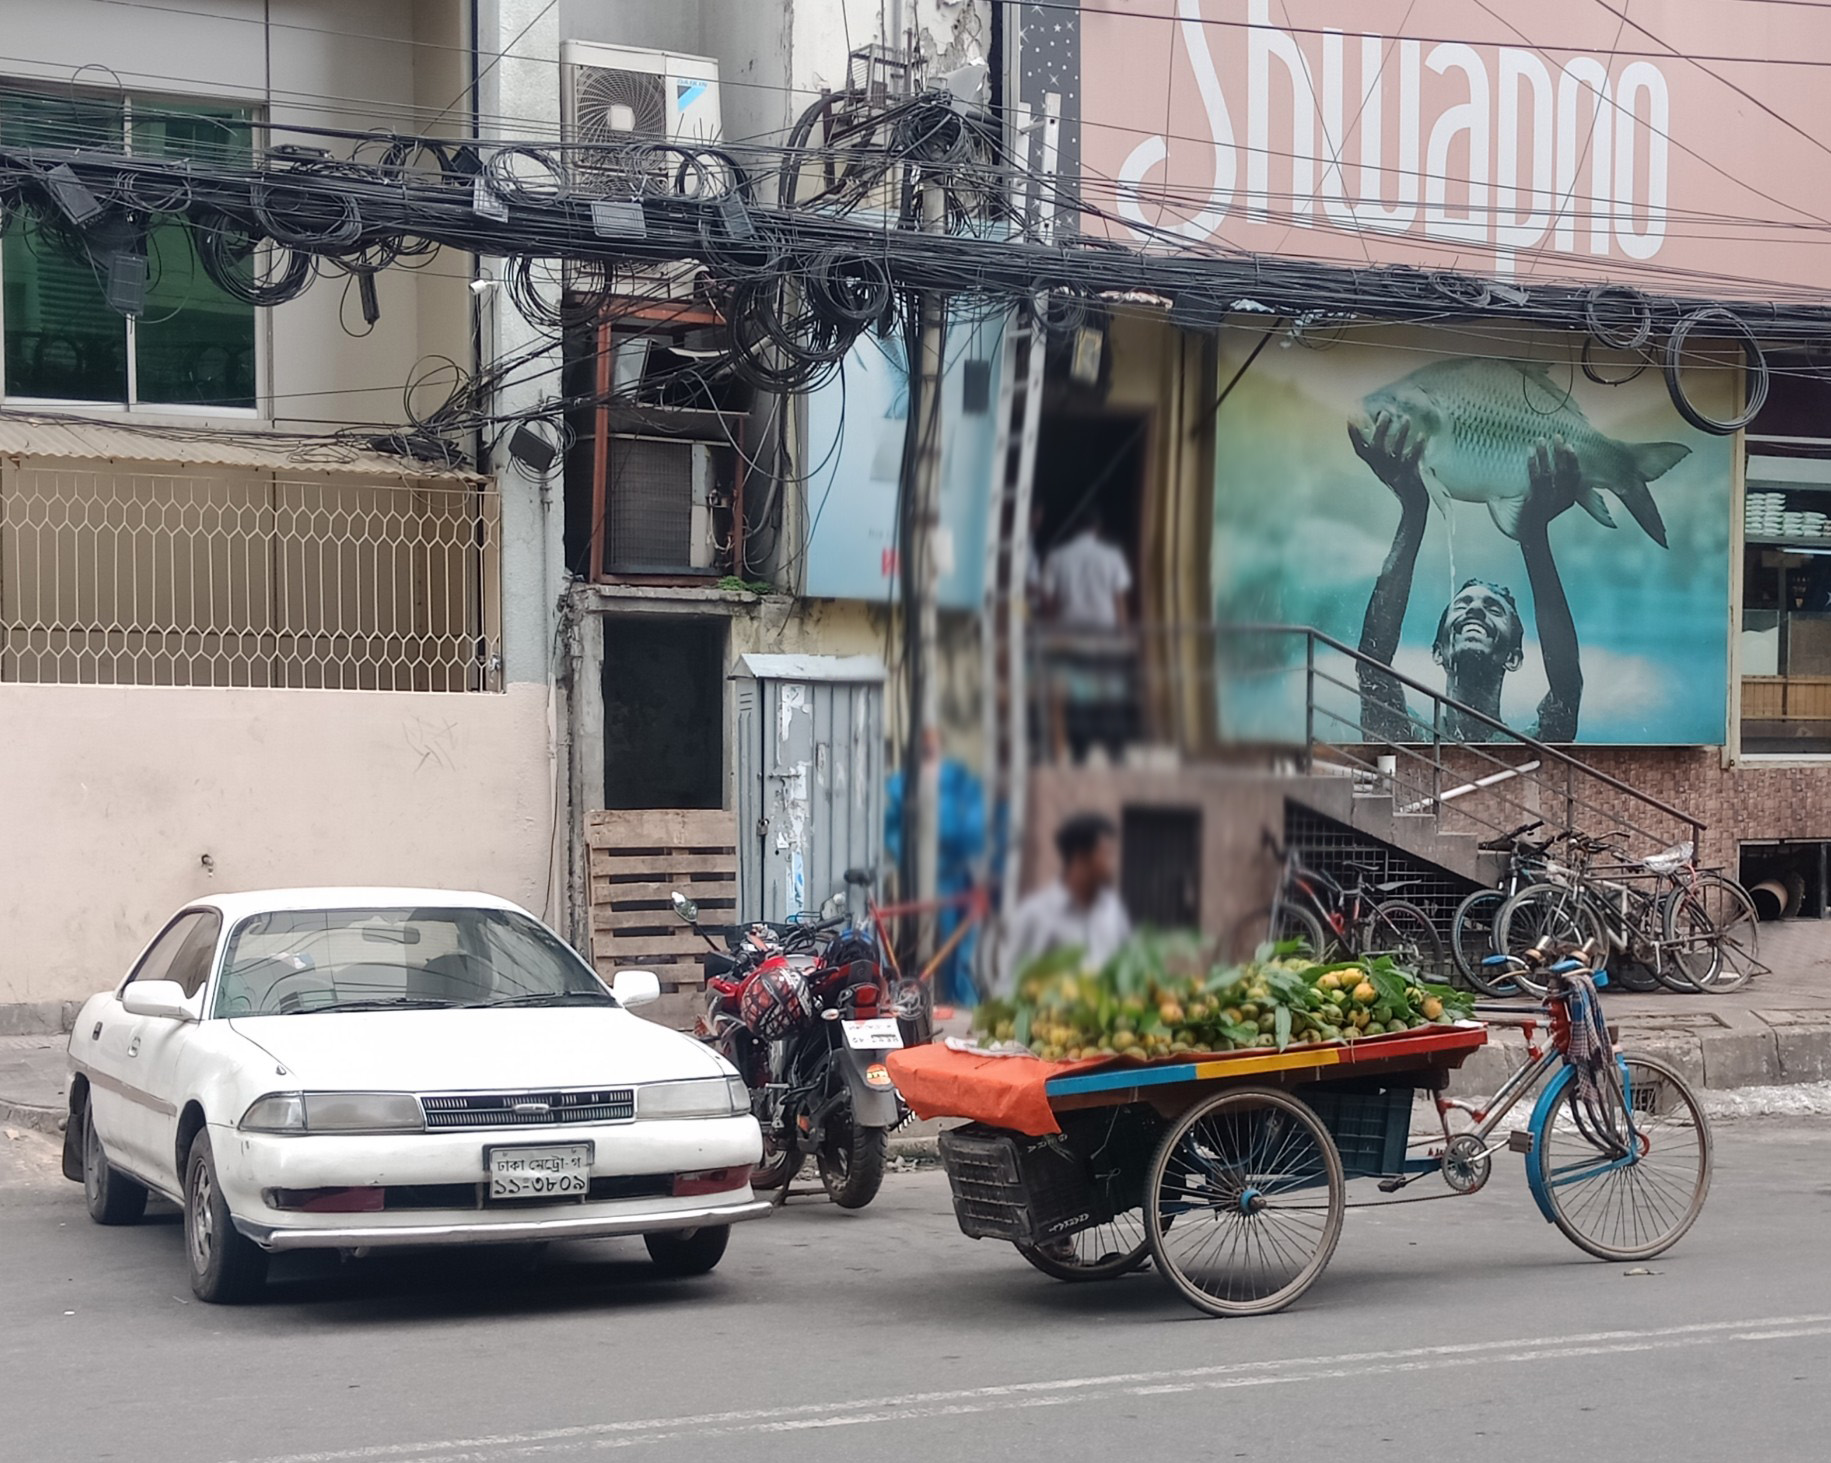bicycle: (1450, 823, 1724, 991), (1503, 830, 1765, 999), (1218, 826, 1449, 987)
bike: (675, 887, 901, 1212)
car: (55, 885, 760, 1300)
van: (897, 938, 1709, 1321)
